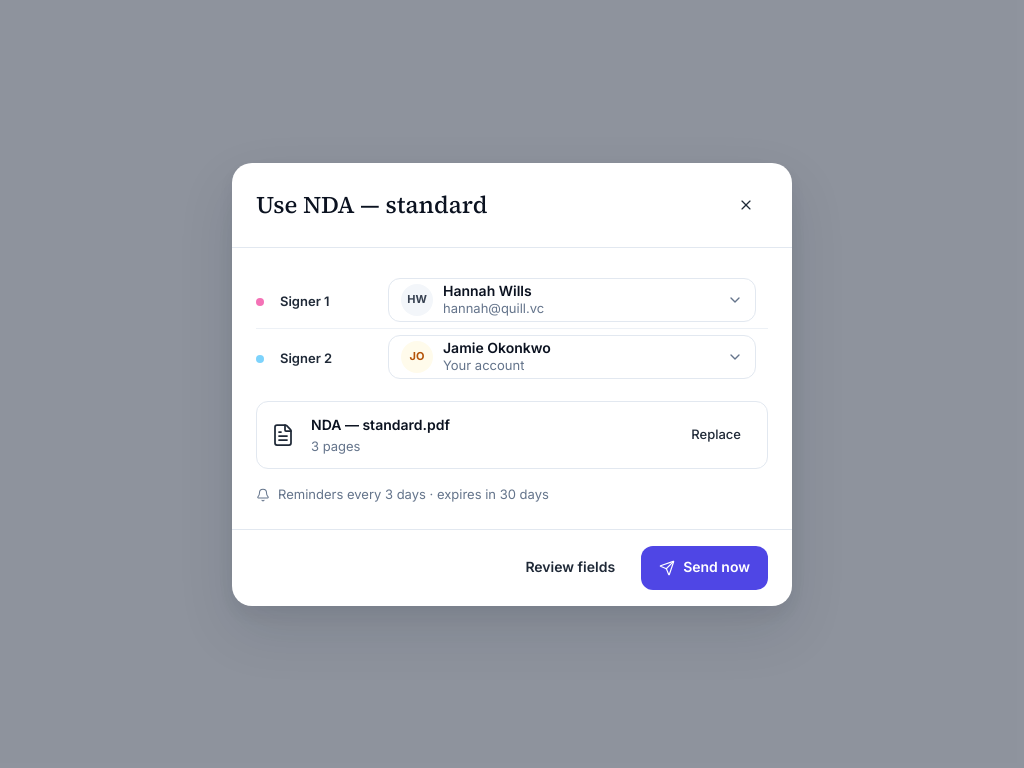
Test: UseTemplateDialog — people › adds a new person by email as a contact and picks them
The image size is (1024, 768).
Expected: the text "NDA — standard.pdf" is shown, [311,416,450,432]
Click the button "HW Hannah Wills hannah@quill.vc".
click(417, 300)  # box [388,278,756,322]
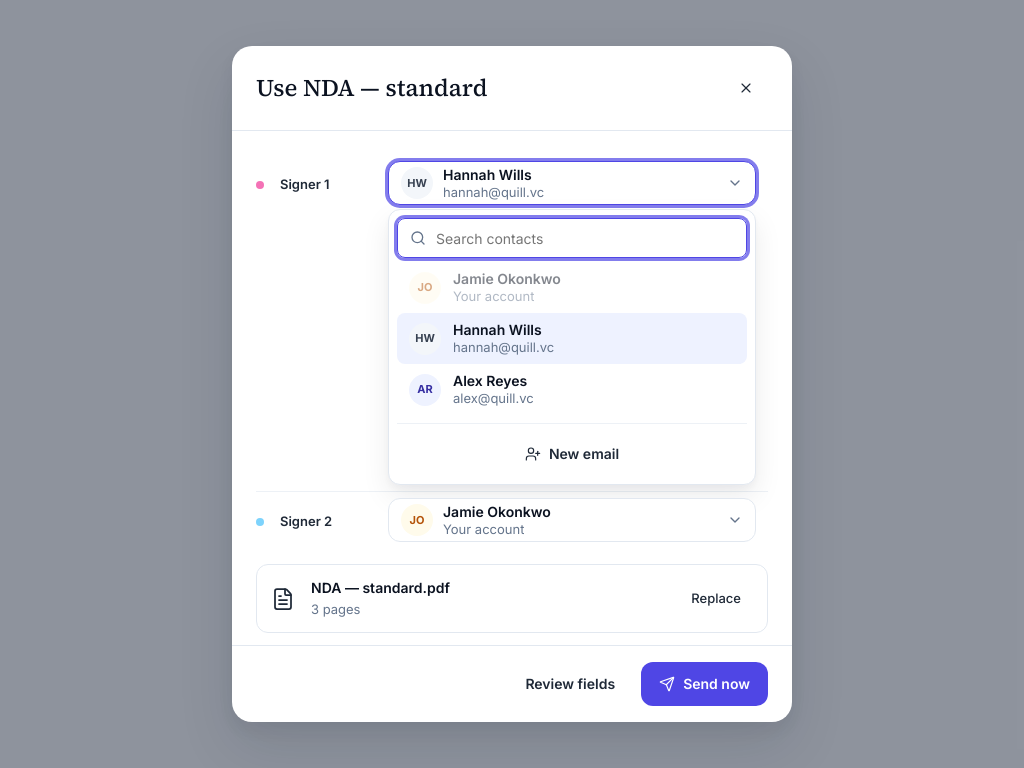
Click the button "New email".
click(572, 454)  # box [397,432,747,476]
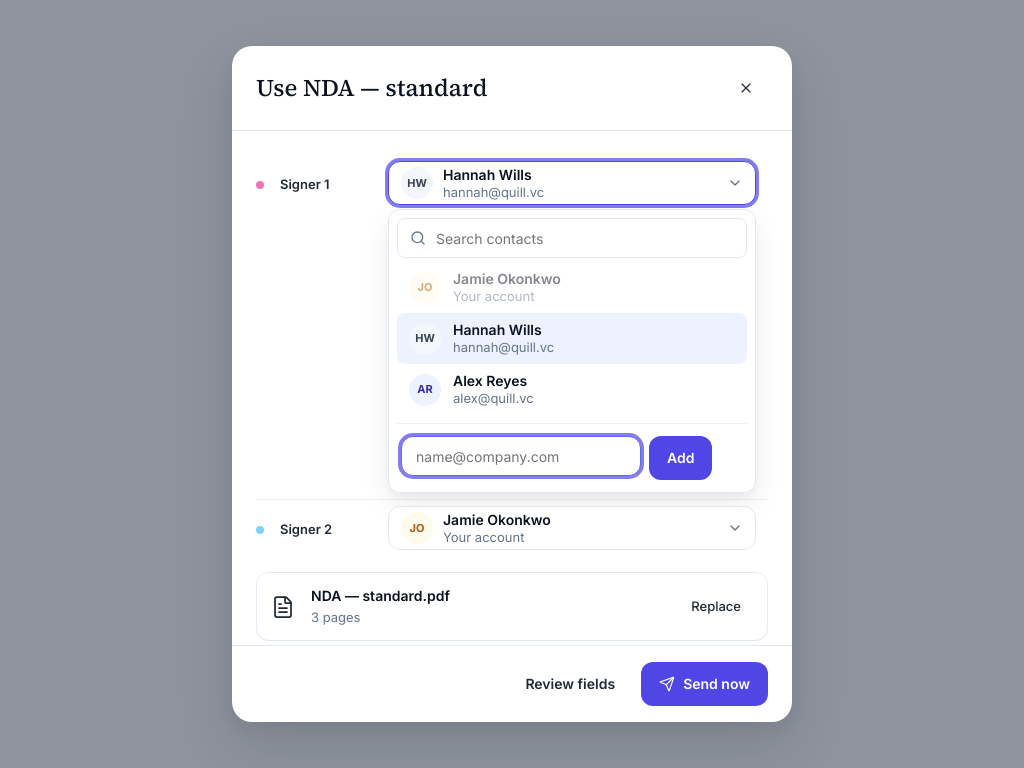
Type "nora@acme.co" into the field named "New email".
click(521, 456); type("nora@acme.co")  # box [401,436,641,476]
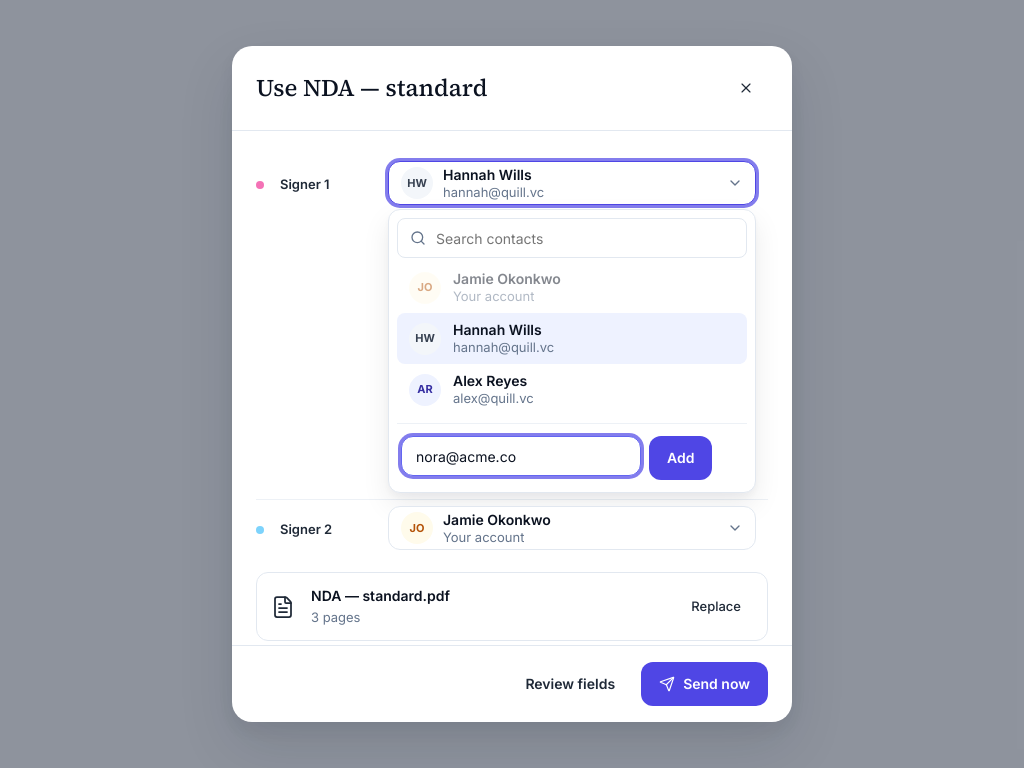
Click the button "Add".
click(681, 458)  # box [649,436,712,480]
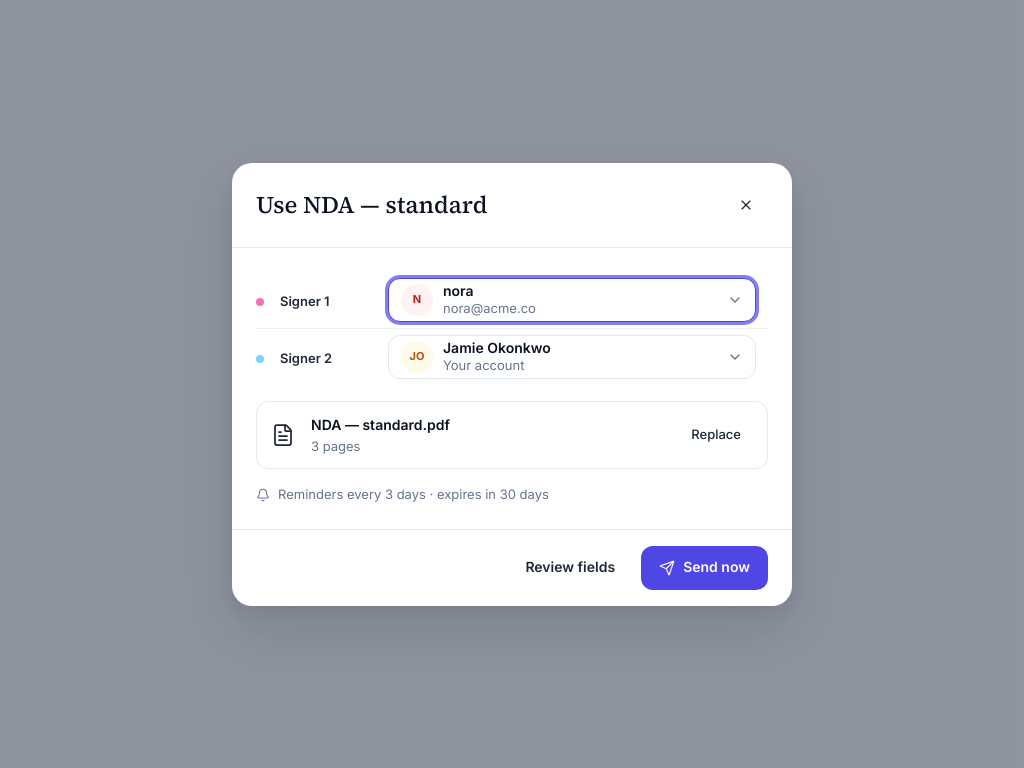
Result: the text "nora@acme.co" is shown at [443,300,536,317]
